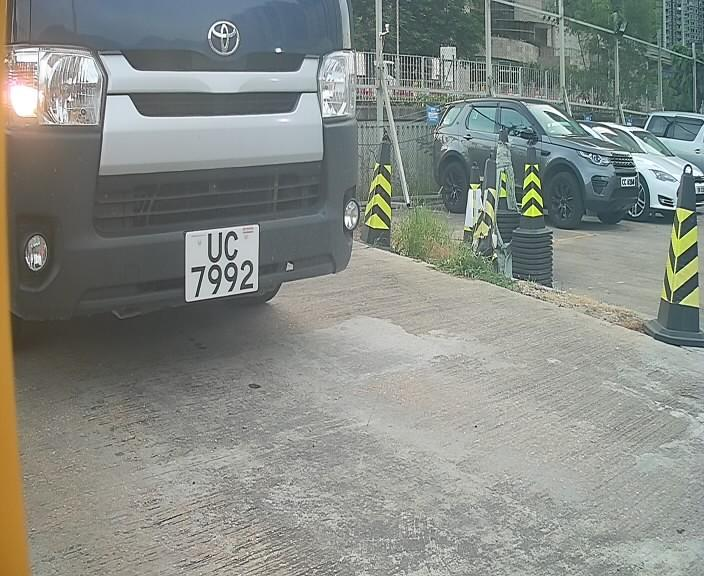privatecar: (2, 7, 382, 329)
